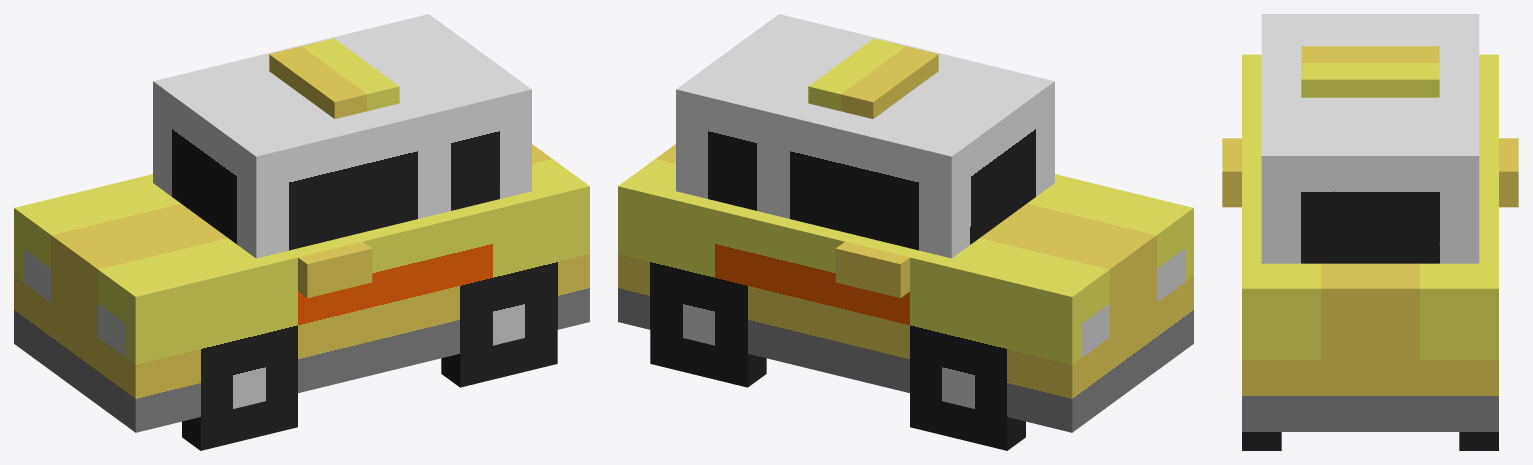
File: veh_car_taxi.dae
The picture shows the model from 3 angles, left to right: view 1: azimuth 30°, elevation 25°; view 2: azimuth 150°, elevation 25°; view 3: azimuth 270°, elevation 25°; orthographic projection. The views are drawn at different scales.
Parts seen in each view (by area): view 1: veh_car_taxi; view 2: veh_car_taxi; view 3: veh_car_taxi.
Part boxes in pixels (x1,y1,x2,y2): veh_car_taxi: (14, 14, 589, 450); veh_car_taxi: (618, 14, 1193, 450); veh_car_taxi: (1222, 14, 1518, 450).
Size of the model in its own units: 2.8 by 1.7 by 1.5.
